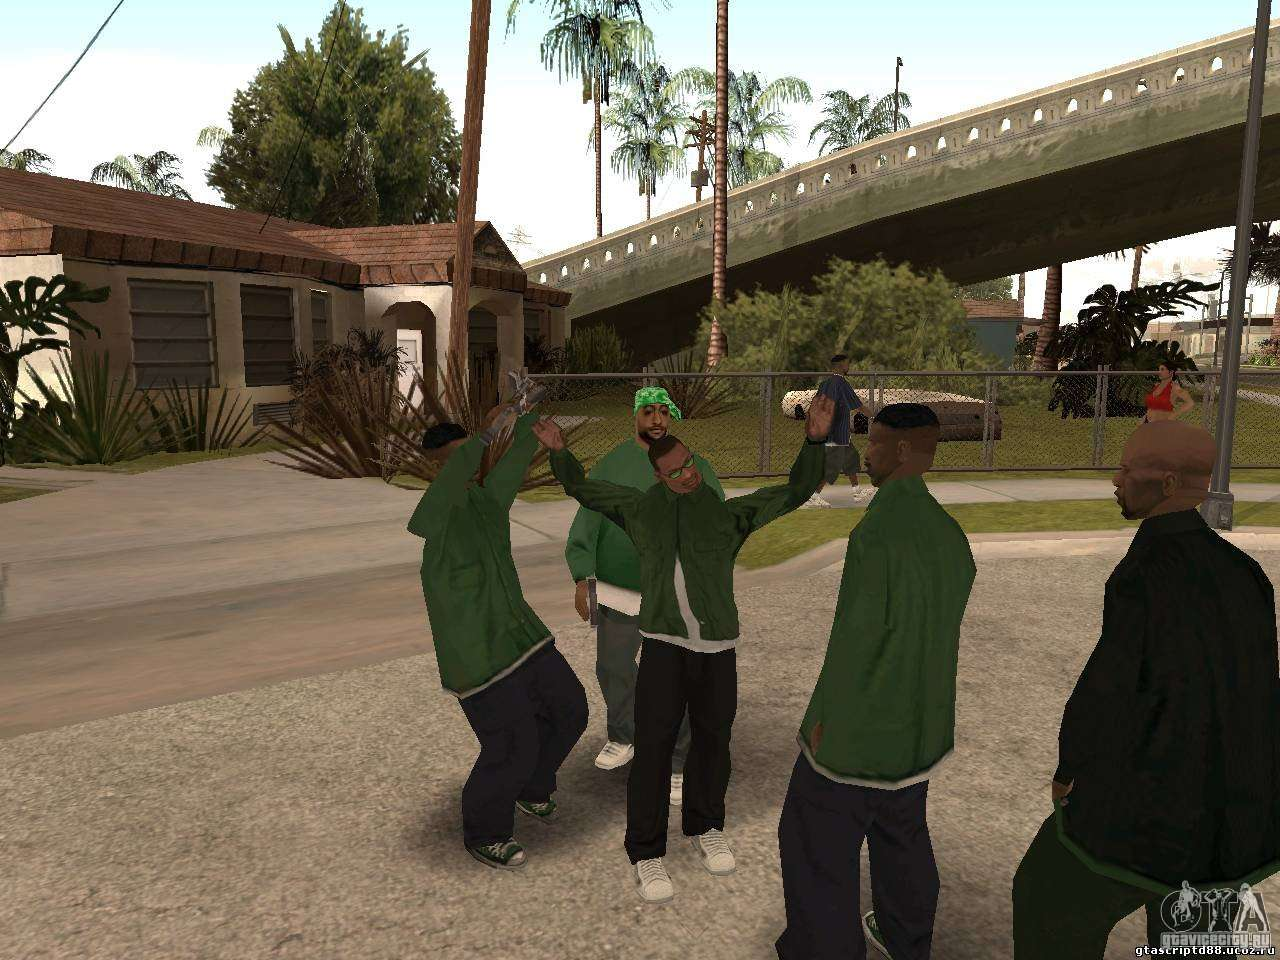person: (778, 405, 969, 960), (1076, 416, 1265, 956), (409, 421, 574, 879), (600, 445, 757, 898), (599, 388, 729, 779)
